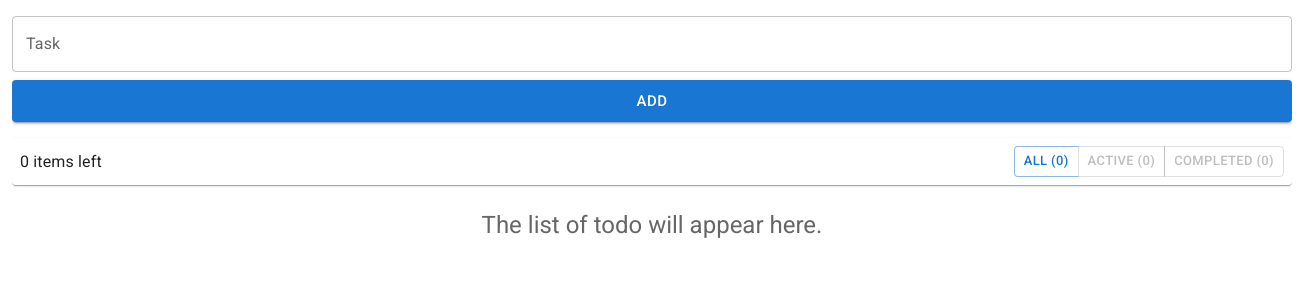
<TodoList /> › remove todo
Type "Make a sandwich" into the field labelled "Task" at (652, 44), box left=12, top=16, right=1292, bottom=72
Then press Enter
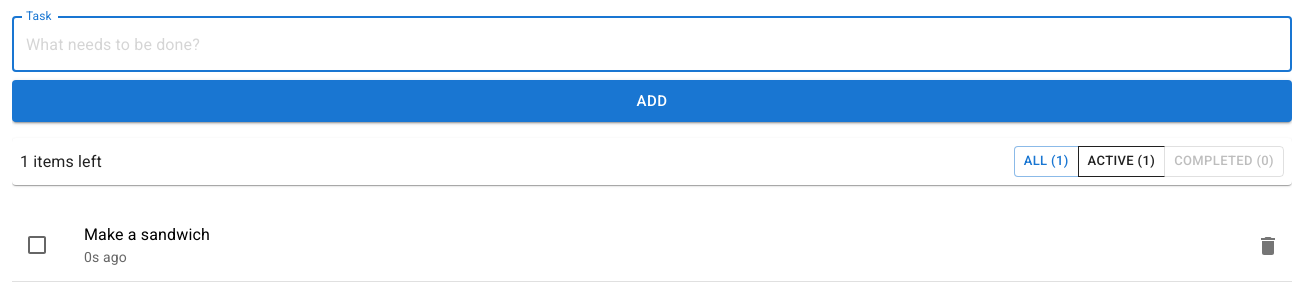
expect the text "Make a sandwich" is shown: met, box left=84, top=225, right=210, bottom=244
Click the button named "Delete todo" at (1268, 246), box left=1248, top=226, right=1288, bottom=266
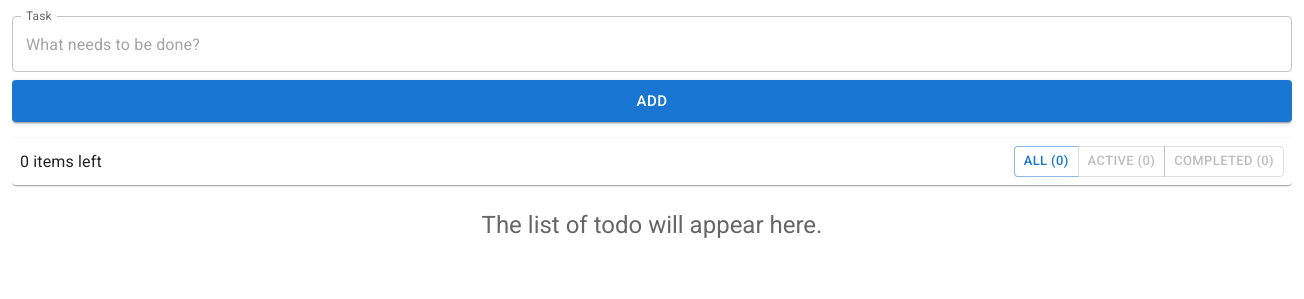
expect the button "Make a sandwich" is gone: met
